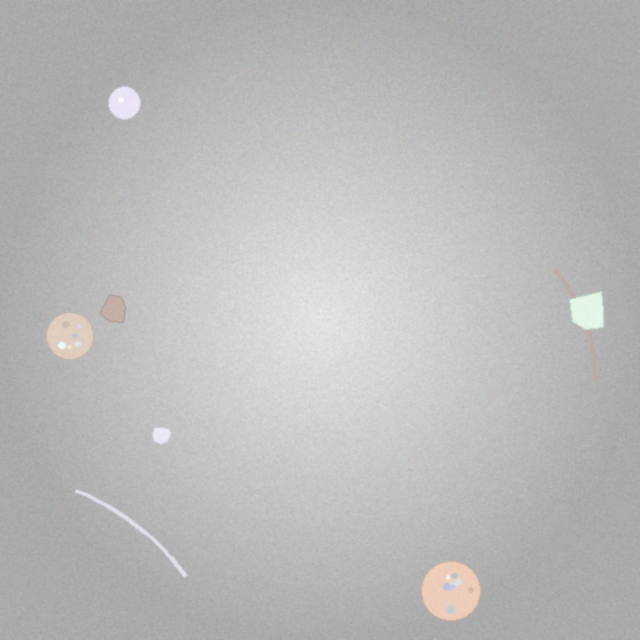fiber: (71, 486, 190, 581), (550, 265, 600, 386)
foam: (421, 561, 480, 620), (46, 313, 94, 360)
fragment: (569, 292, 604, 330), (100, 295, 126, 322), (152, 427, 172, 445)
pellet: (108, 87, 141, 119)
